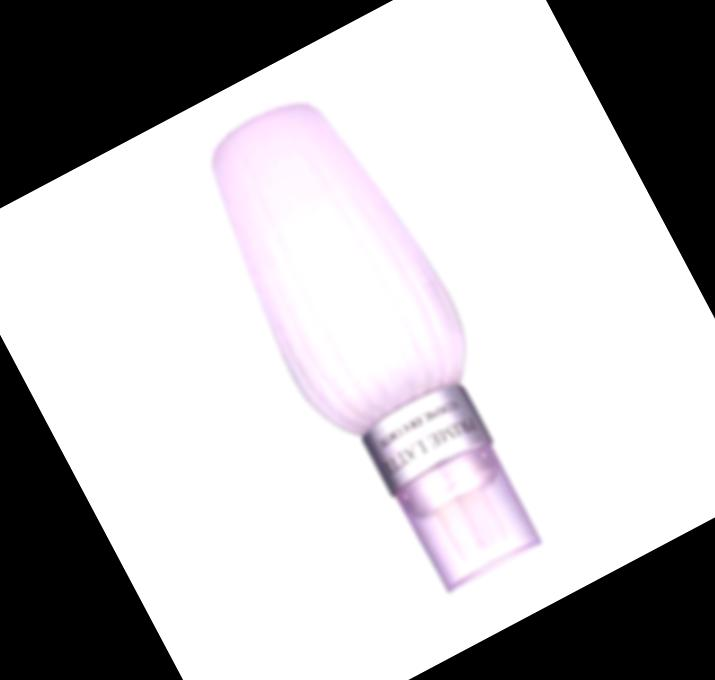cosmetic: (178, 77, 564, 613)
